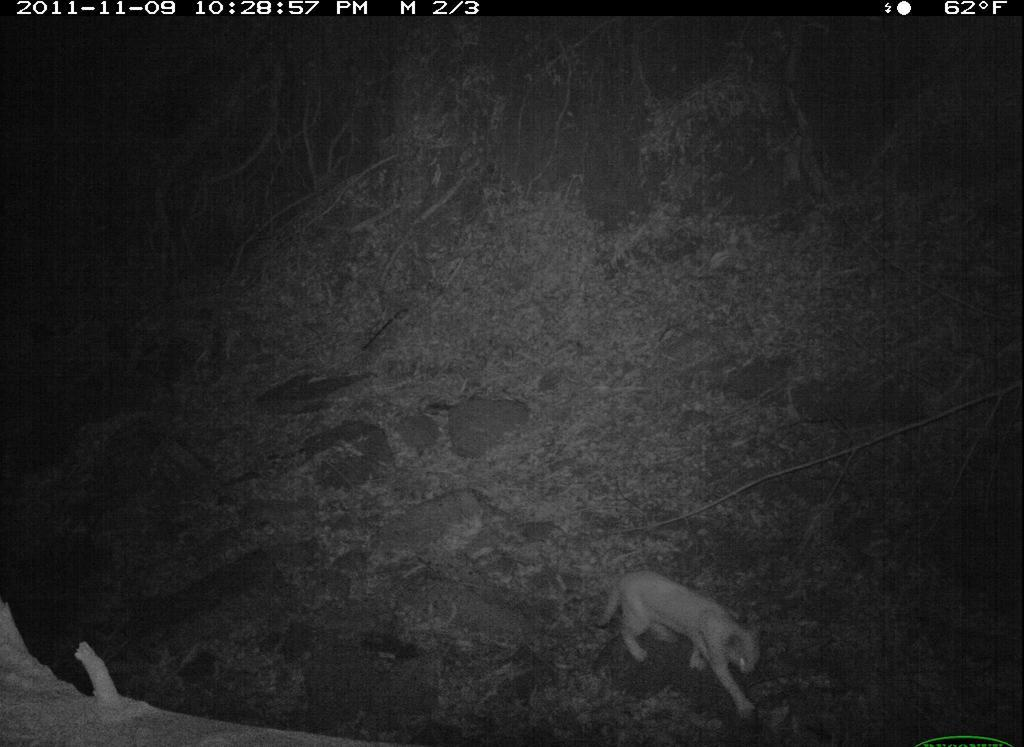cat: (587, 557, 772, 728)
